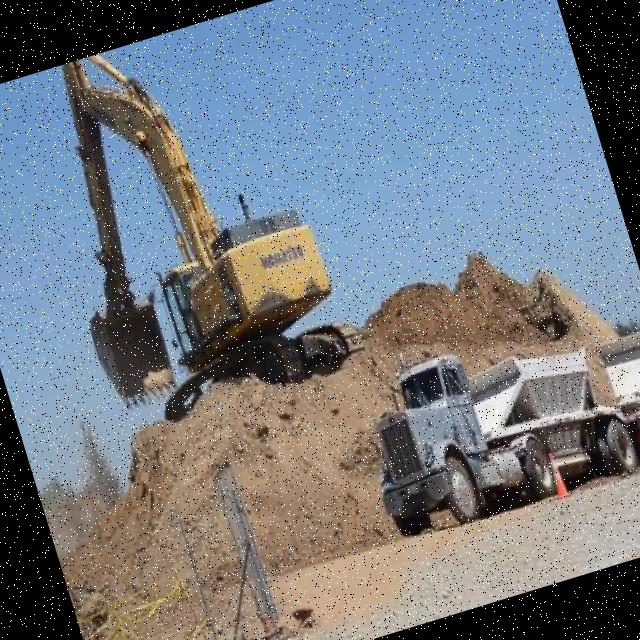Dump Truck: (341, 280, 640, 556)
Excavator: (0, 3, 370, 444)
